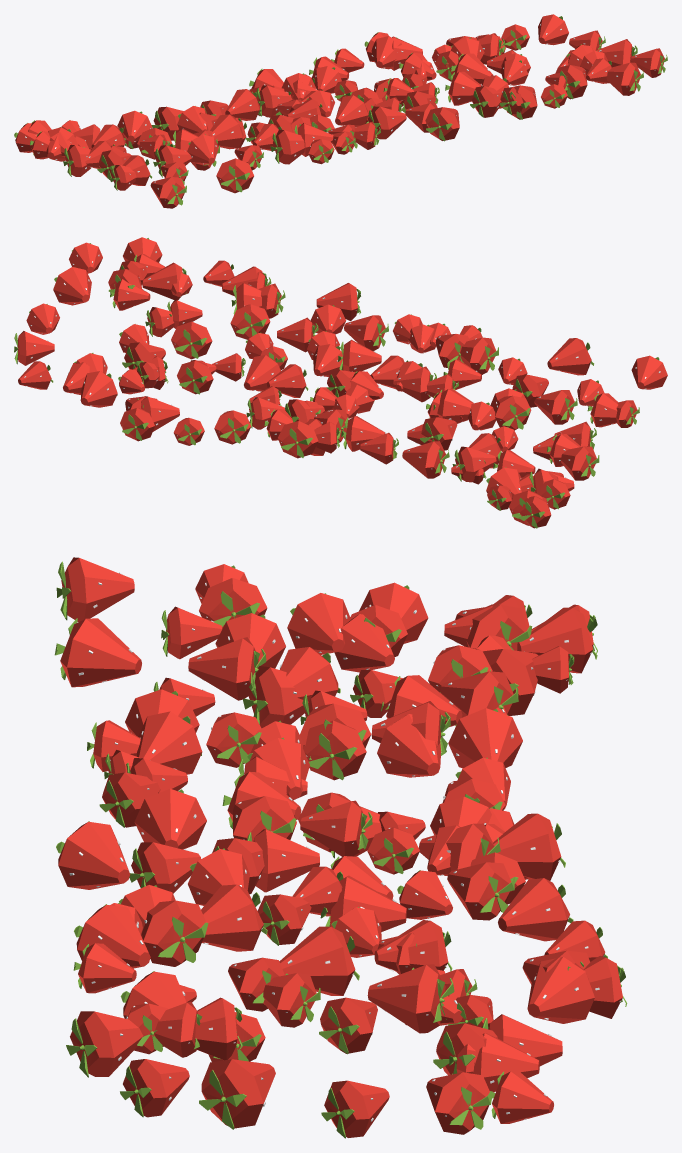
The model's file is strawberry.fbx.
3 views of the same model, one above another, from view 1: azimuth 30°, elevation 25°; view 2: azimuth 150°, elevation 25°; view 3: azimuth 270°, elevation 25° (orthographic). The views are drawn at different scales.
Parts seen in each view (by area): view 1: Circle.004_Circle.109; view 2: Circle.004_Circle.109; view 3: Circle.004_Circle.109.
Part boxes in pixels (x1,y1,x2,y2): Circle.004_Circle.109: (14,14,667,208); Circle.004_Circle.109: (14,237,667,528); Circle.004_Circle.109: (54,557,627,1138).
Size of the model in its own units: 1271 by 154 by 577.
